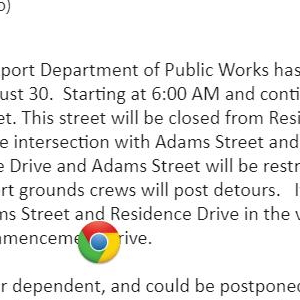chrome: (77, 220, 121, 264)
